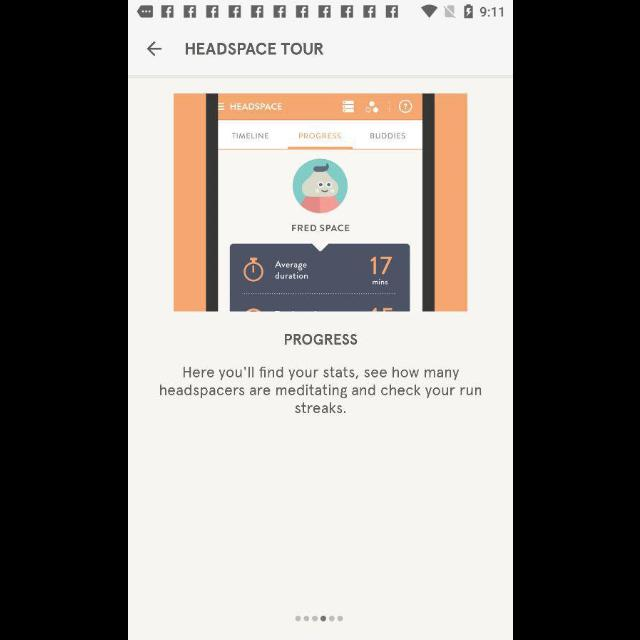icon: (147, 42, 161, 56)
image: (174, 94, 466, 312)
pageindicator: (295, 616, 343, 622)
text: (160, 366, 480, 414), (185, 43, 323, 55), (284, 334, 356, 346)
toolbar: (128, 20, 512, 76)
uppertaskbar: (128, 1, 512, 20)
